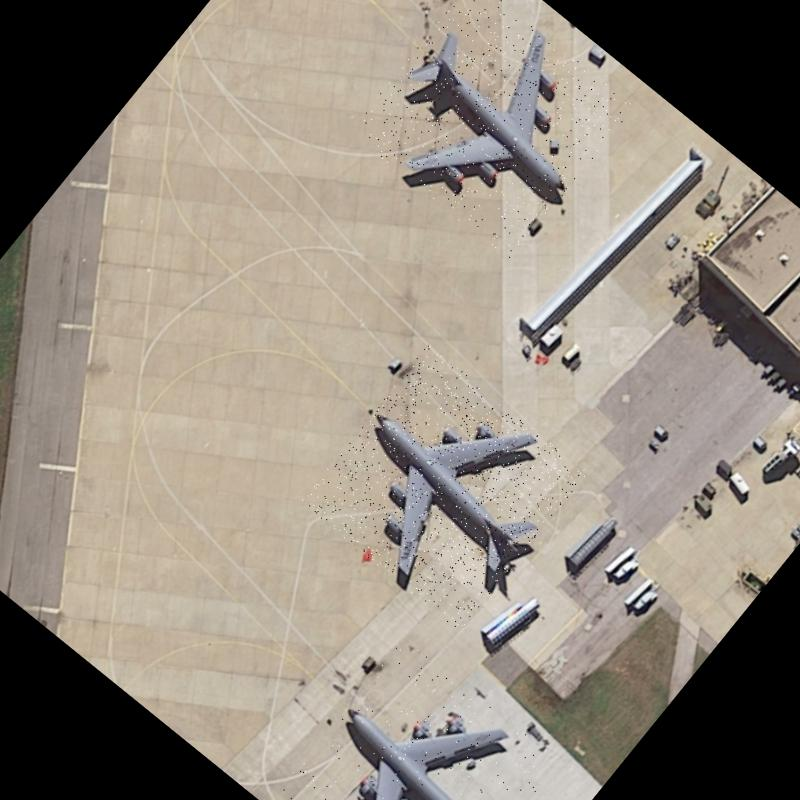A14: (299, 344, 587, 632), (348, 0, 633, 261), (274, 635, 562, 800)
